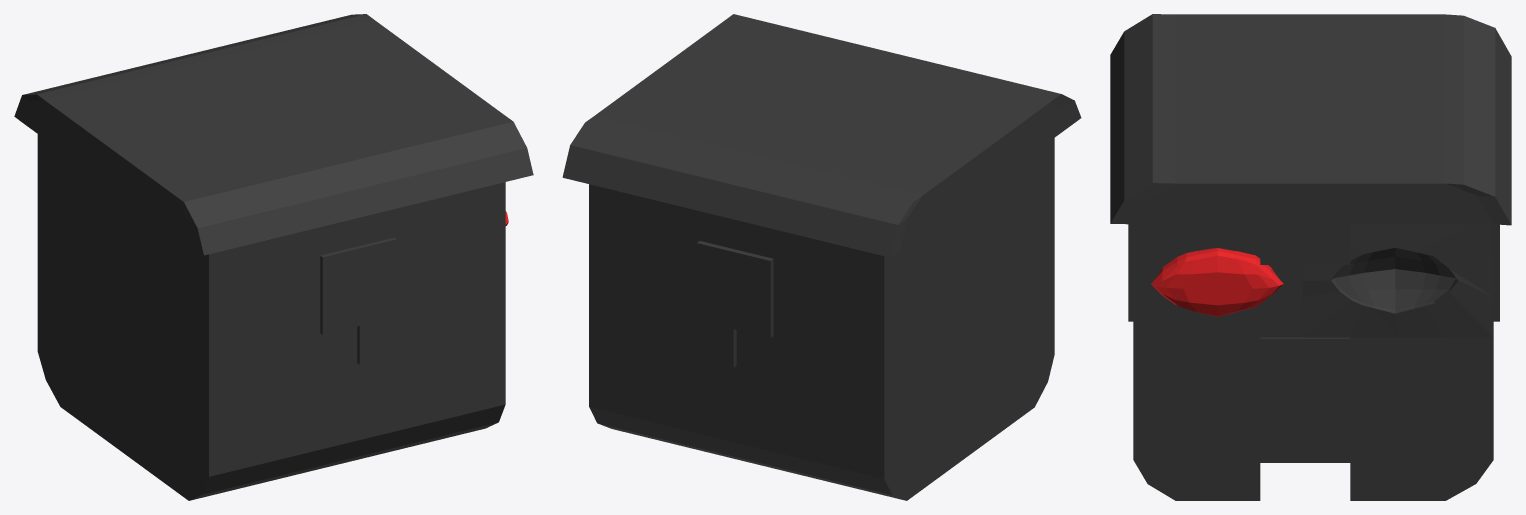
Rendered from Head.fbx.
3 renders of one model, left to right at view 1: azimuth 30°, elevation 25°; view 2: azimuth 150°, elevation 25°; view 3: azimuth 270°, elevation 25°, orthographic. The views are drawn at different scales.
Parts seen in each view (by area): view 1: GemSocket; view 2: GemSocket; view 3: GemSocket, Gem.
Part boxes in pixels (x1=…): GemSocket: x1=14, y1=14, x2=533, y2=500; GemSocket: x1=562, y1=14, x2=1081, y2=500; GemSocket: x1=1110, y1=14, x2=1511, y2=500; Gem: x1=1151, y1=248, x2=1283, y2=316.
Size of the model in its own units: 223 by 200 by 223.
